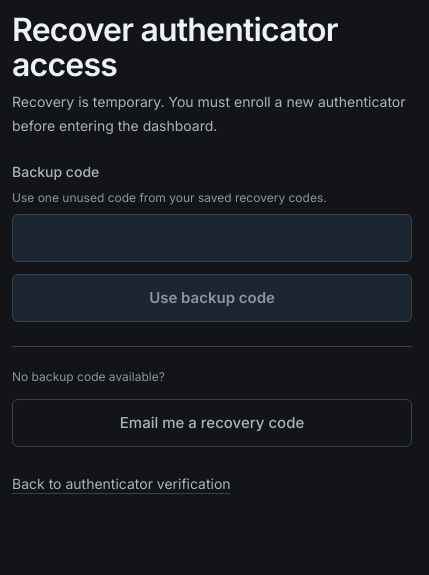
Test: MfaRecoveryForm › switches to email recovery after the existing request succeeds and keeps method switching available
Click the button "Email me a recovery code" at (212, 423), box [12,399,412,447]
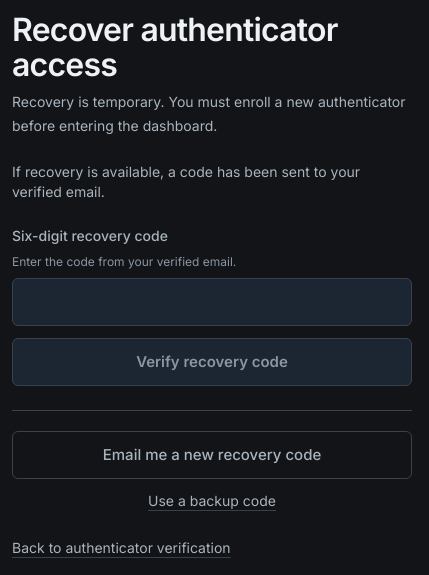
Expected: the message shows "a code has been sent", [12,163,360,200]
Expected: the button "Use a backup code" is shown, [12,491,412,511]
Expected: the button "Email me a new recovery code" is shown, [12,431,412,479]
